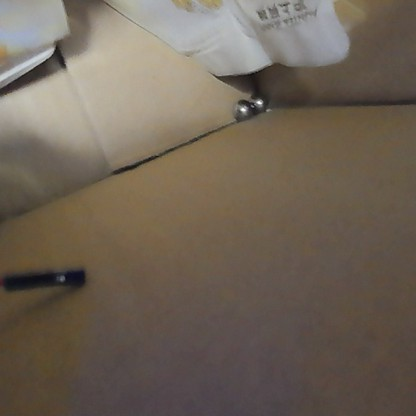ironball: (228, 95, 253, 125), (248, 88, 270, 116)
